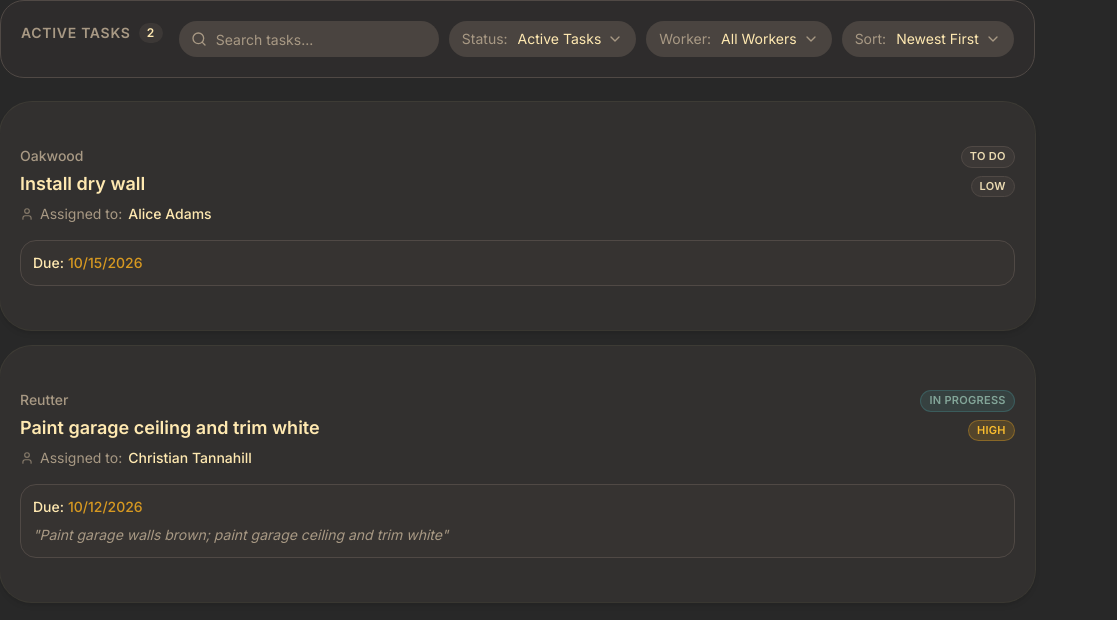
Test: ManageTaskList › filters by search input
The width and height of the screenshot is (1117, 620).
Type "garage" into the field with placeholder "Search tasks...".
click(309, 39); type("garage")  # box [179,21,439,57]
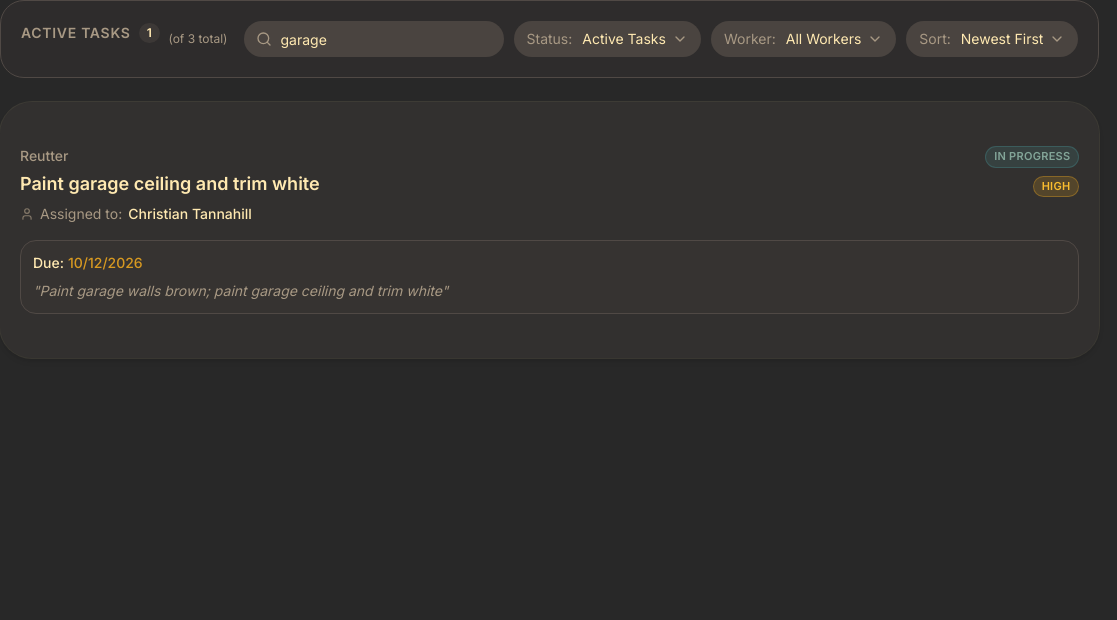
Expected: the heading "Paint garage ceiling and trim white" is shown, [20,170,320,198]
Result: the heading "Install dry wall" is gone
